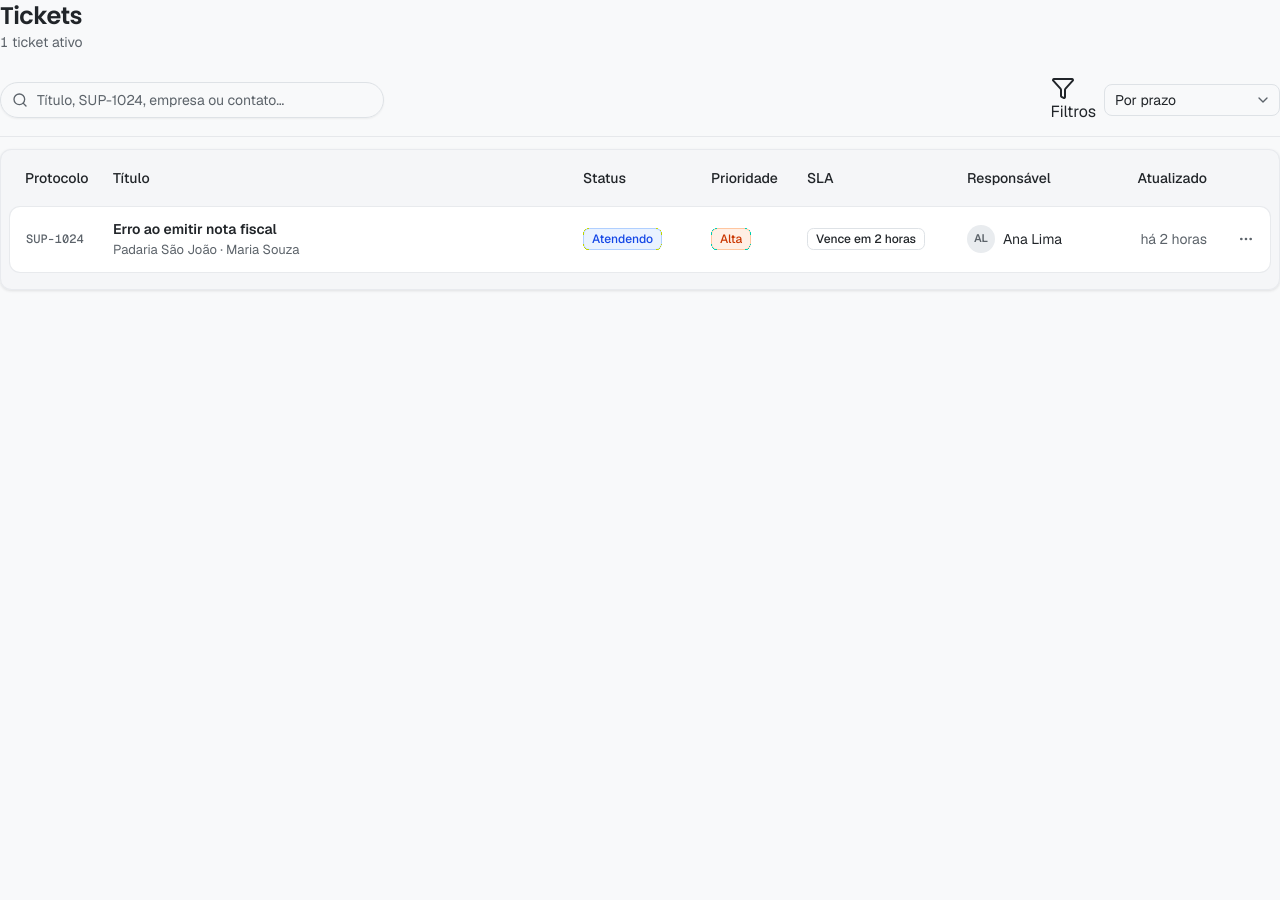
TicketsTable — menu ⋯ › 'Cancelado…' pede o motivo antes de mover
Click the button named "Ações de SUP-1024".
click(1246, 239)  # box [1230,223,1262,255]
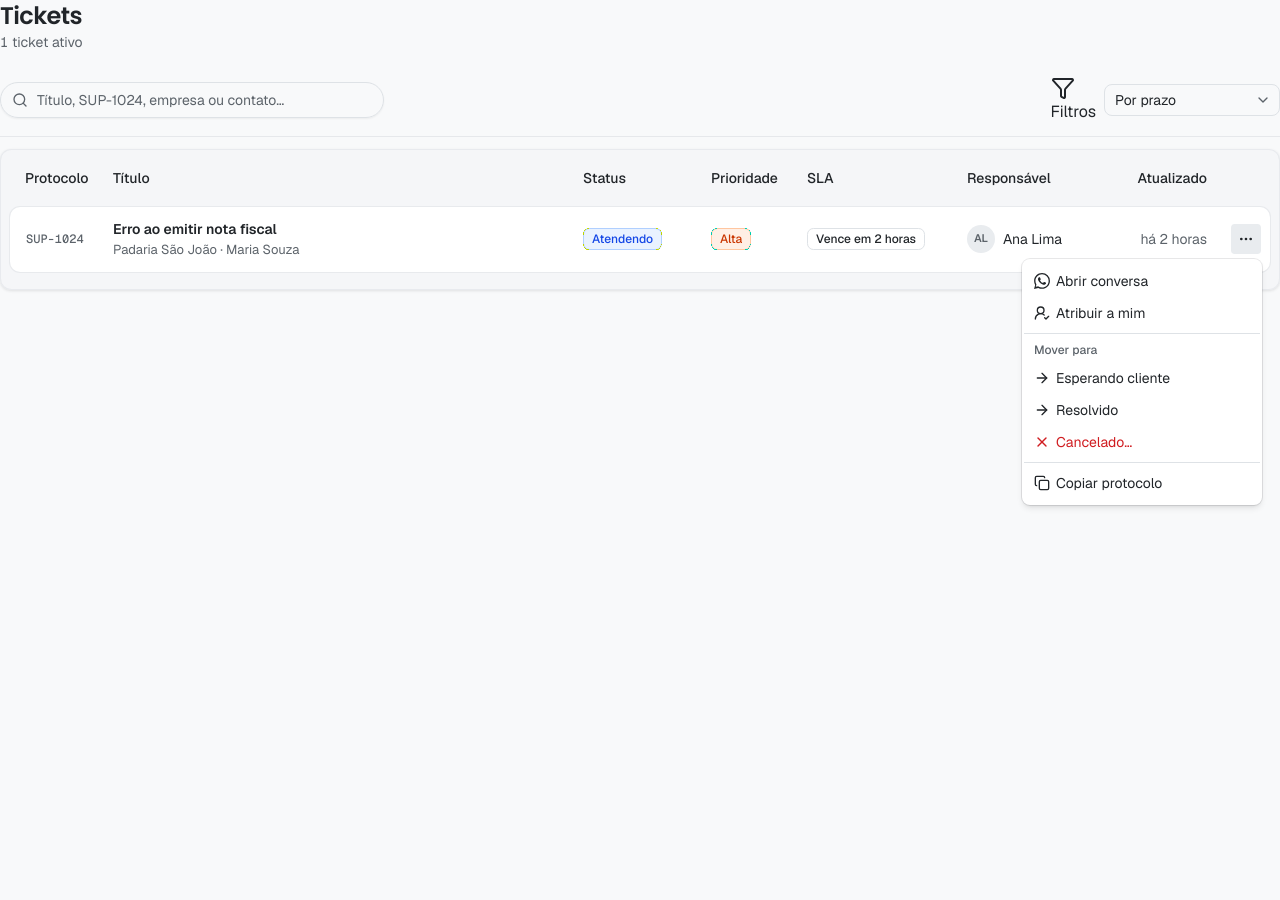
Click the menu item "Cancelado…".
click(1083, 442)  # box [1034,433,1132,451]
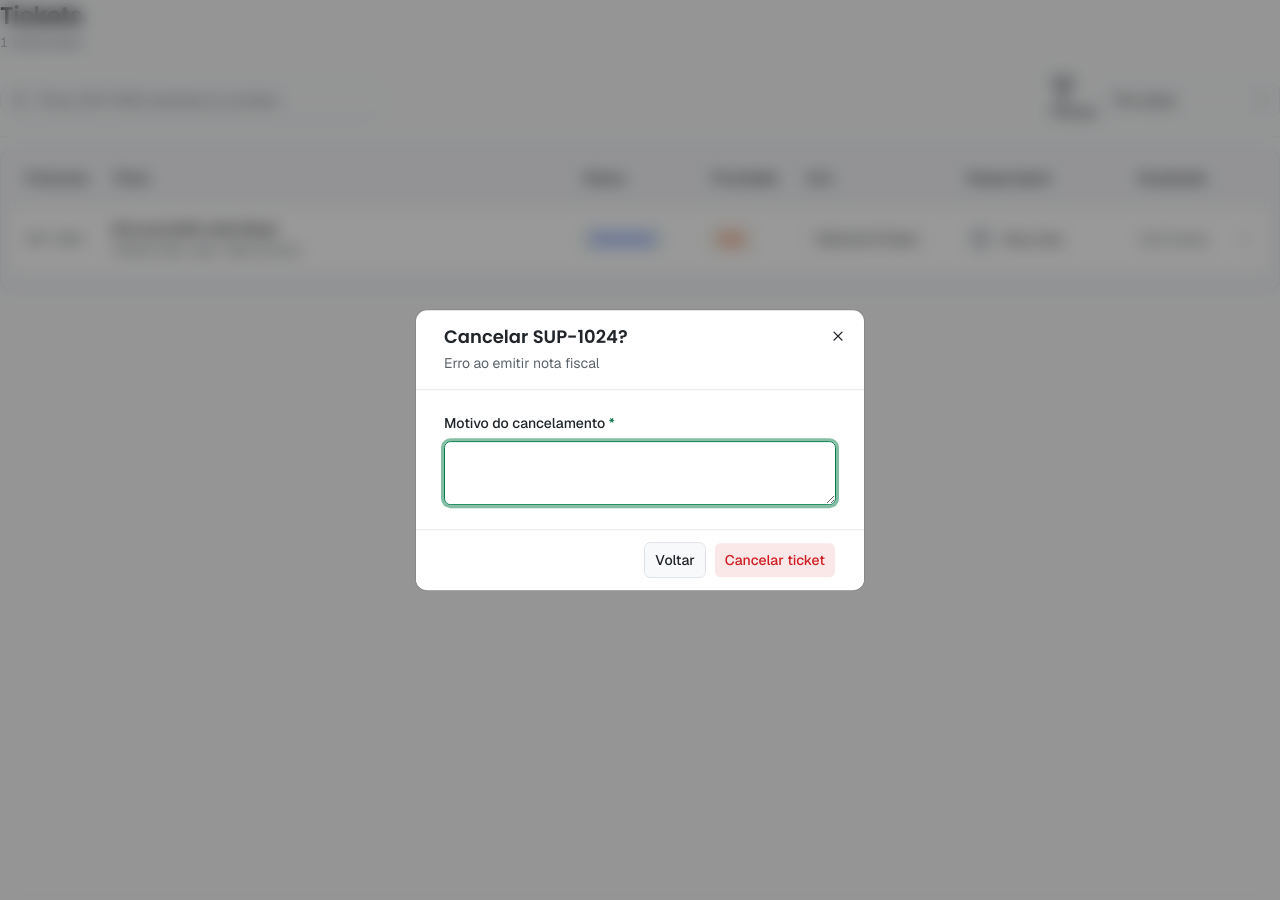
Click the button "Cancelar ticket".
click(775, 560)  # box [714,542,836,578]
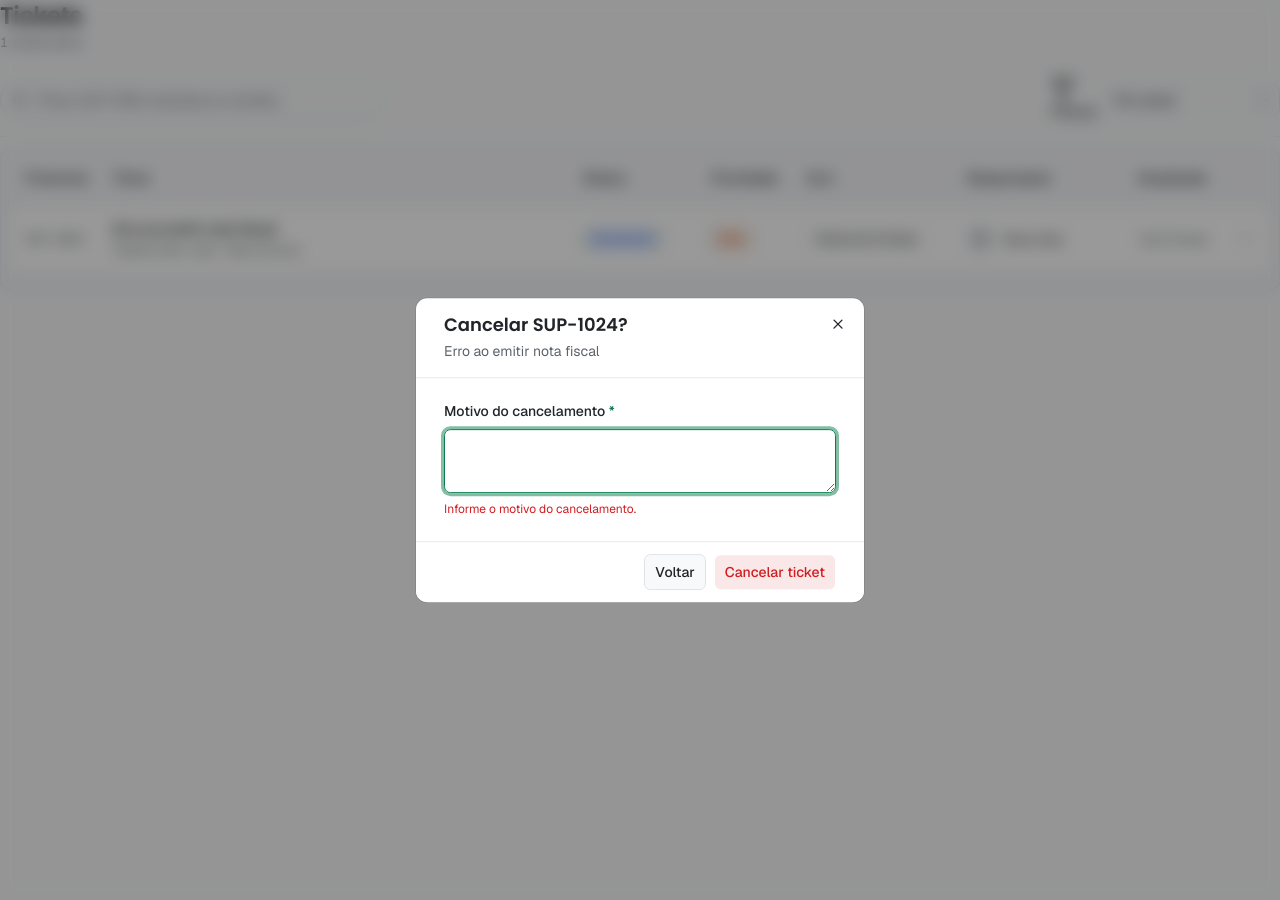
Expected: the text "Informe o motivo do cancelamento." is shown, [444,501,636,517]
Type "Cliente desistiu" into the text box labelled "Motivo do cancelamento *".
click(640, 461); type("Cliente desistiu")  # box [444,429,836,493]
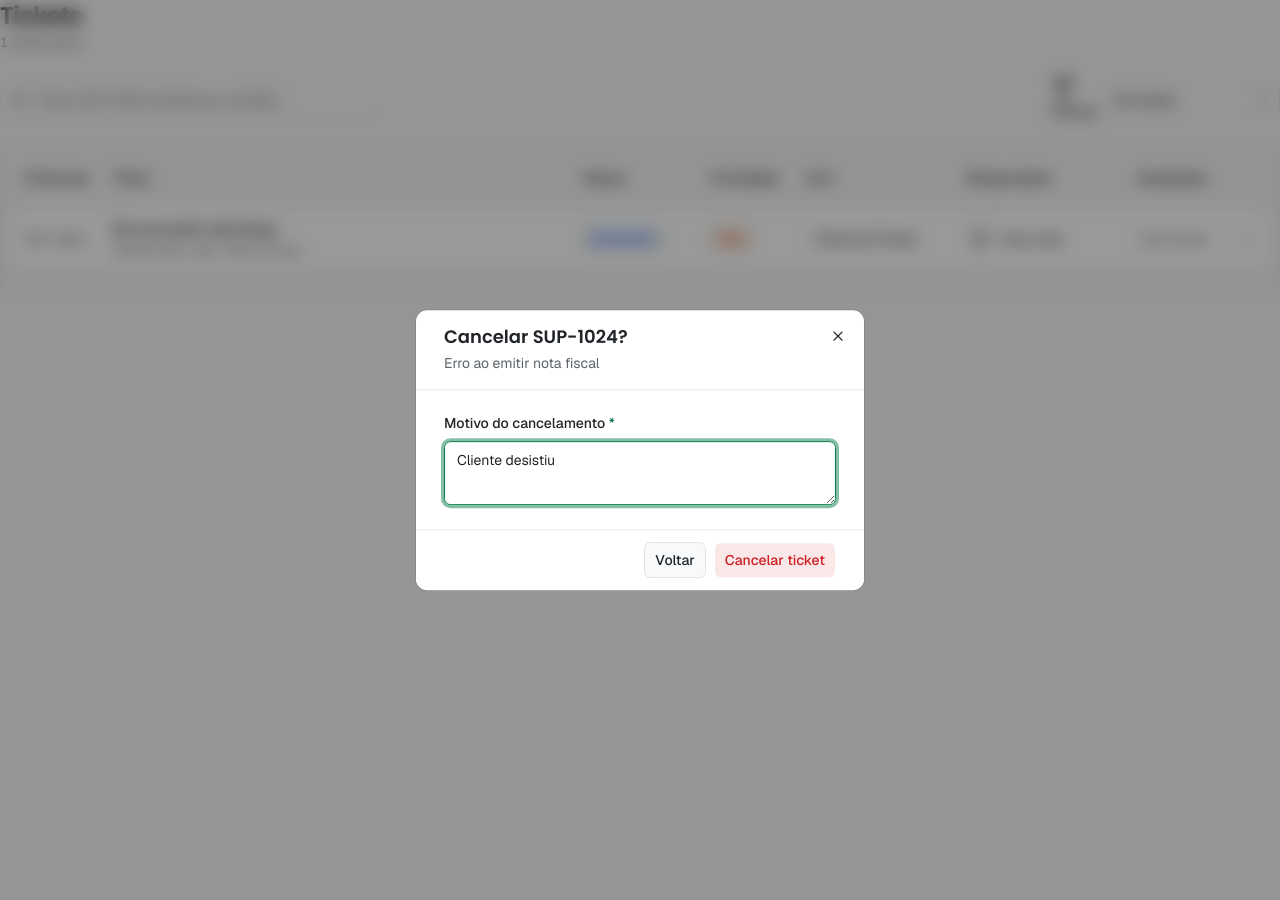
Click the button "Cancelar ticket".
click(775, 560)  # box [714,542,836,578]
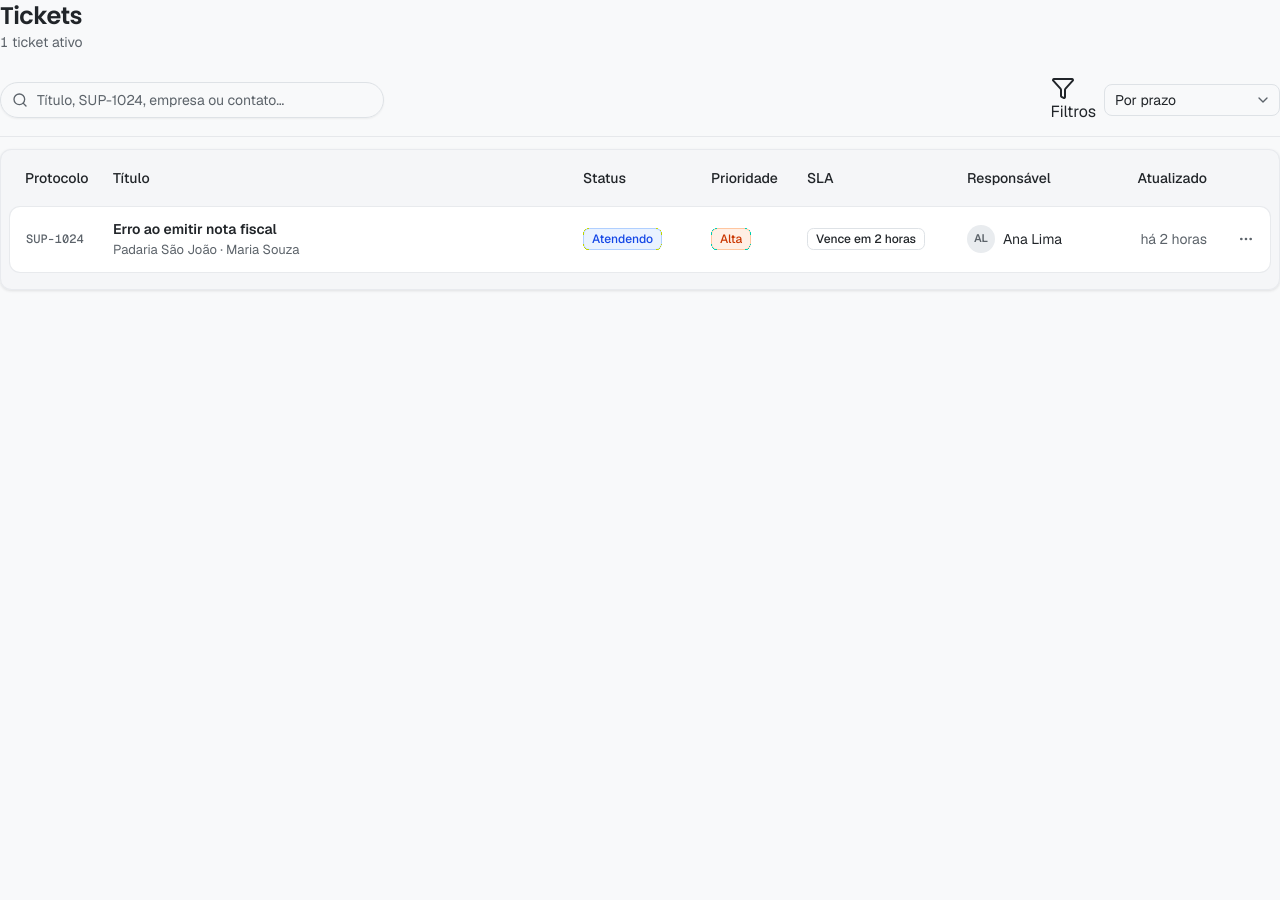
Expected: the dialog is gone
